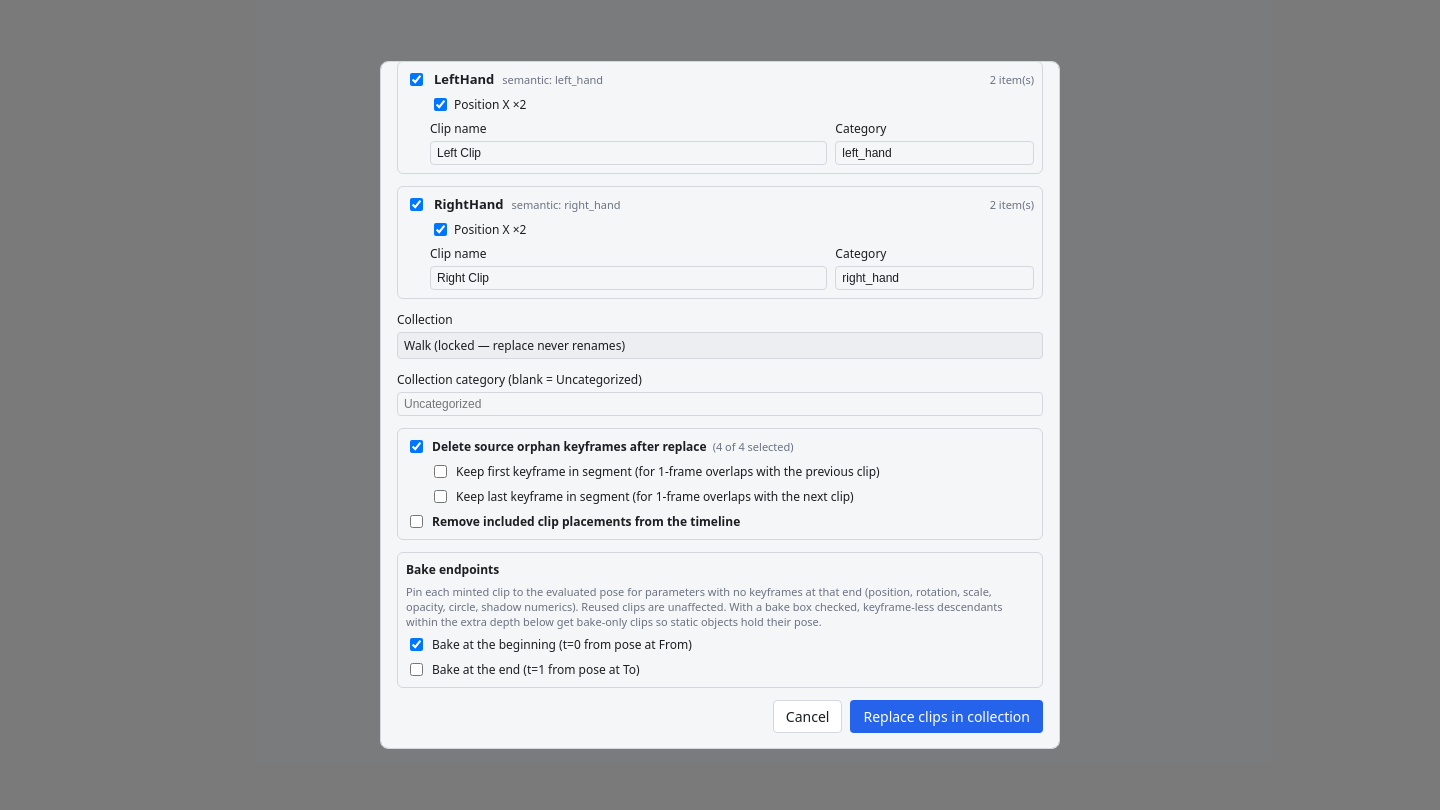
Test: TimeSegmentToCollectionModal replace mode › passes replaceCollectionId through and shows executor errors inline
(page scrolled)
expect the element with test id "segment-object-nA" is shown: met, box [397,61,1043,174]
Click the button with test id "segment-confirm": x=947, y=716 [850,700,1043,733]
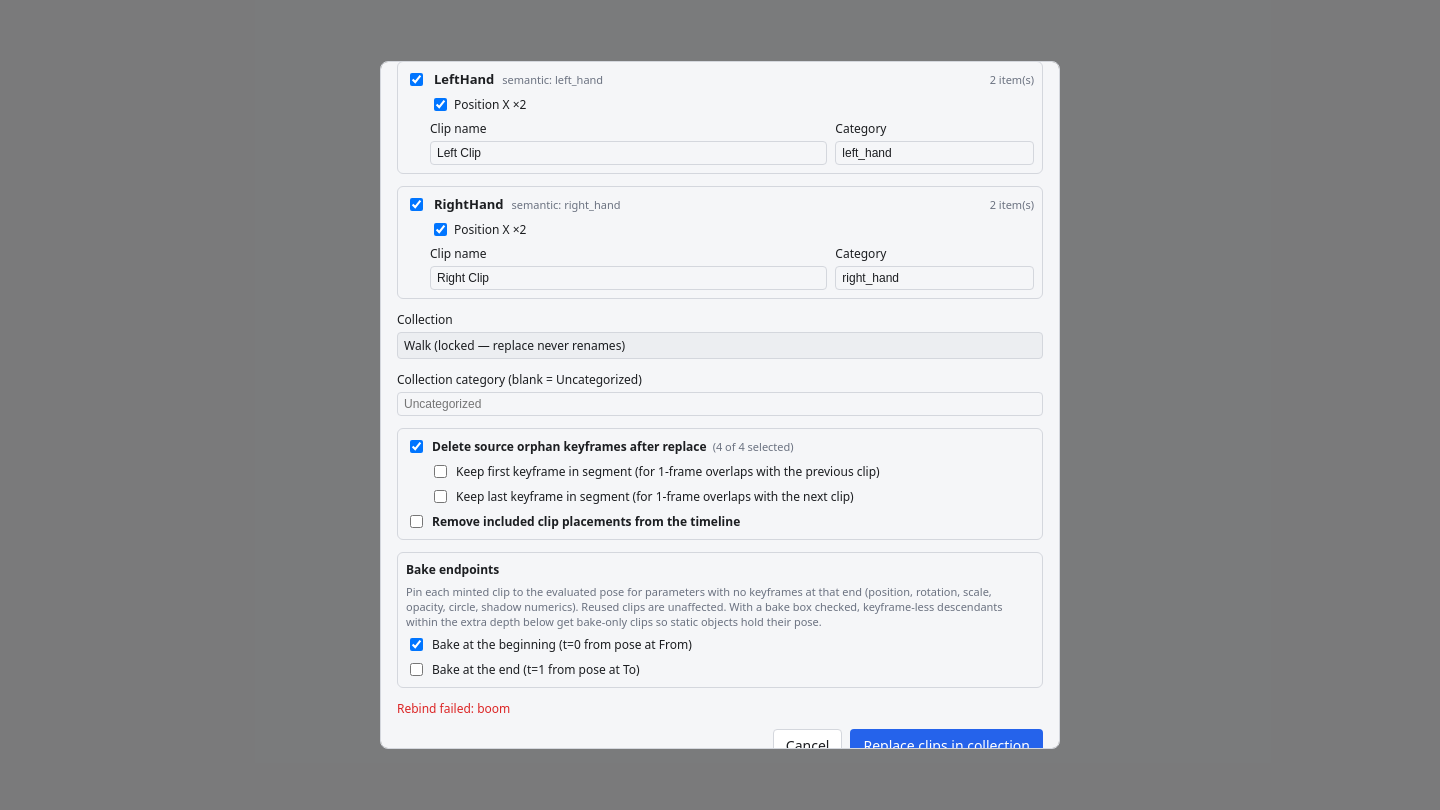
expect the message with test id "segment-error" shows "boom": met, box [397,700,510,717]
